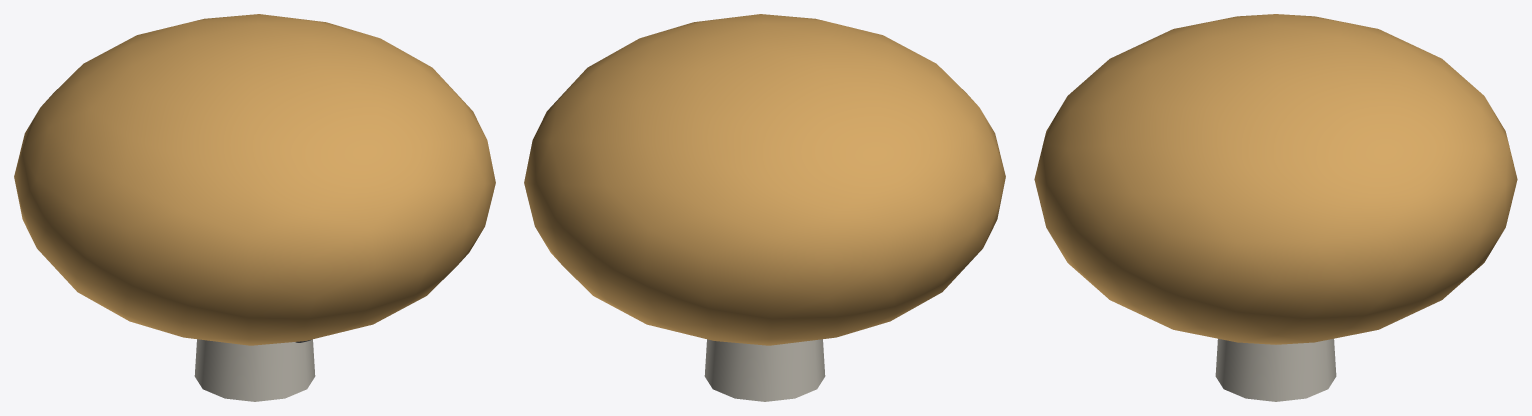
Rendered from clitopilus-hobsonii.glb.
The picture shows the model from 3 angles, left to right: view 1: azimuth 30°, elevation 25°; view 2: azimuth 150°, elevation 25°; view 3: azimuth 270°, elevation 25°; orthographic projection.
Parts seen in each view (by area): view 1: cap, stalk; view 2: cap, stalk; view 3: cap, stalk.
Part boxes in pixels (x1,y1,x2,y2): cap: (14, 14, 495, 345); stalk: (194, 339, 315, 401); cap: (524, 14, 1005, 345); stalk: (704, 339, 825, 401); cap: (1034, 14, 1517, 344); stalk: (1215, 338, 1336, 401).
Bounding box in the file's own units: 0.4 × 0.3 × 0.4.
